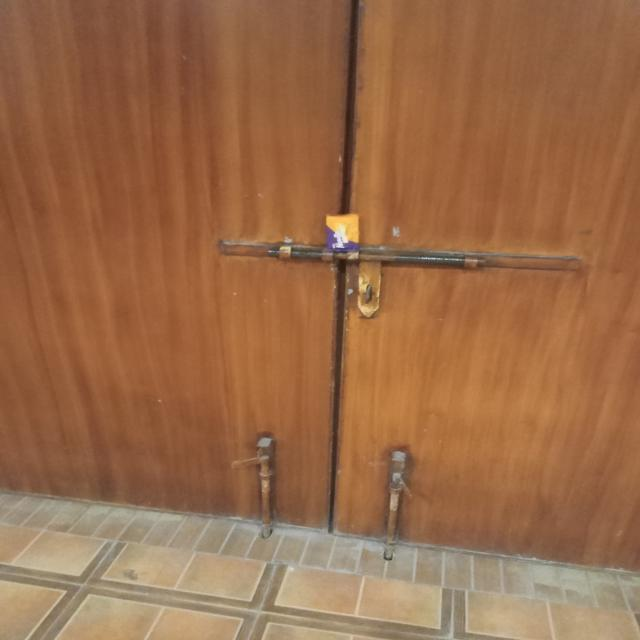Plastic: (324, 210, 359, 250)
